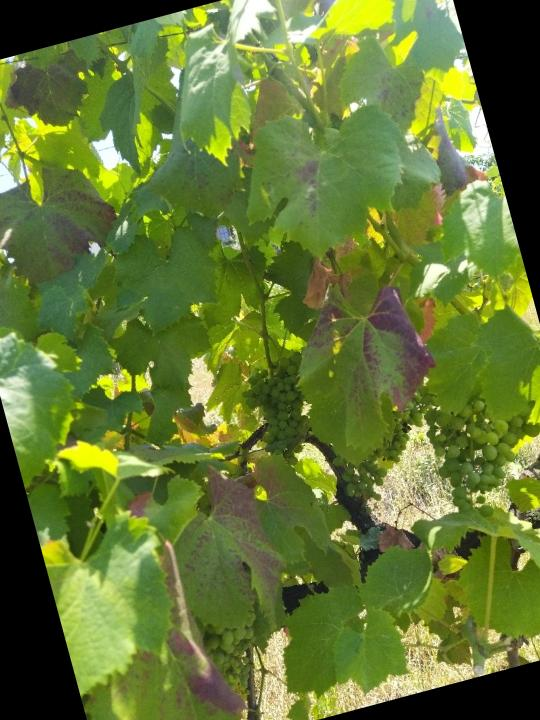grape: (418, 378, 540, 528), (233, 349, 328, 473)
